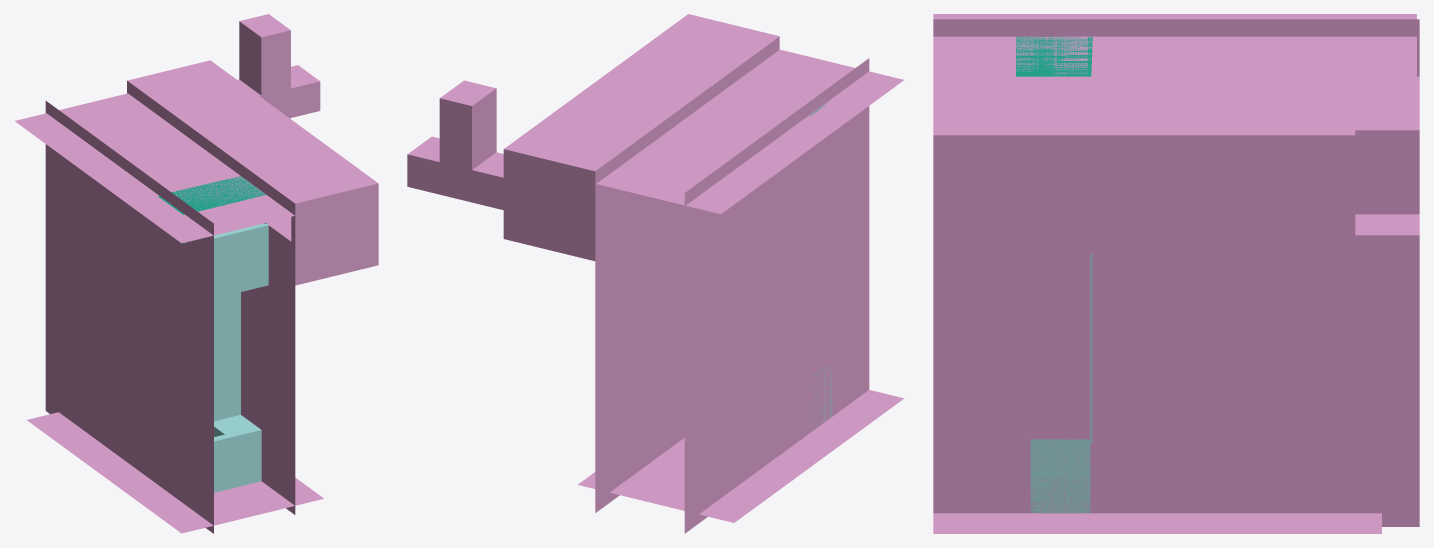
File: pit2.obj
The picture shows the model from 3 angles, left to right: view 1: azimuth 30°, elevation 25°; view 2: azimuth 150°, elevation 25°; view 3: azimuth 270°, elevation 25°; orthographic projection. The views are drawn at different scales.
Parts seen in each view (by area): view 1: boundaries, Object002, big_room, final_bit, Object001, ramp; view 2: boundaries, Object002, final_bit; view 3: Object002, boundaries, final_bit, big_room, ramp.
Boxes of the visible parts, box(x1,y1,x2,y2) form: boundaries: box(15, 60, 378, 533); Object002: box(241, 266, 295, 514); big_room: box(214, 292, 261, 492); final_bit: box(238, 14, 320, 118); Object001: box(214, 223, 268, 298); ramp: box(158, 176, 266, 243); boundaries: box(503, 14, 903, 533); Object002: box(595, 203, 684, 512); final_bit: box(407, 80, 503, 209); Object002: box(933, 254, 1419, 526); boundaries: box(933, 14, 1419, 533); final_bit: box(1355, 109, 1419, 277); big_room: box(1030, 254, 1092, 513); ramp: box(1016, 36, 1092, 76).
Bounding box in the file's own units: 2392 × 2759 × 2448.
